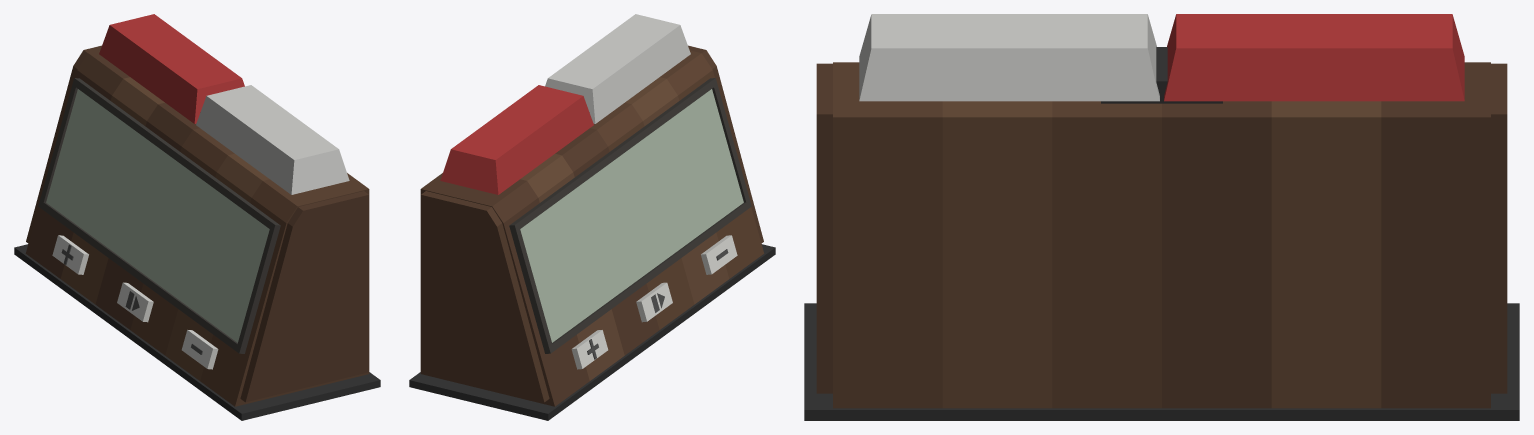
File: chess_clock.glb
3 views of the same model, side by side, from view 1: azimuth 30°, elevation 25°; view 2: azimuth 150°, elevation 25°; view 3: azimuth 270°, elevation 25° (orthographic). The views are drawn at different scales.
Visible parts, largest first — view 1: ClockBody, LCD, RockerBar, Button_2, Button_3, Button_1; view 2: ClockBody, LCD, RockerBar, Button_1, Button_2, Button_3; view 3: ClockBody, RockerBar.
Boxes of the visible parts, box(x1,y1,x2,y2) form: ClockBody: box(14, 45, 380, 420); LCD: box(46, 89, 269, 342); RockerBar: box(99, 14, 349, 194); Button_2: box(117, 282, 153, 322); Button_3: box(181, 330, 218, 369); Button_1: box(52, 235, 88, 274); ClockBody: box(409, 45, 775, 420); LCD: box(520, 89, 743, 342); RockerBar: box(440, 14, 690, 194); Button_1: box(571, 330, 608, 369); Button_2: box(636, 282, 672, 322); Button_3: box(701, 235, 737, 274); ClockBody: box(804, 47, 1519, 420); RockerBar: box(859, 14, 1464, 101).
Size of the model in its own units: 0.062 by 0.097 by 0.176.
